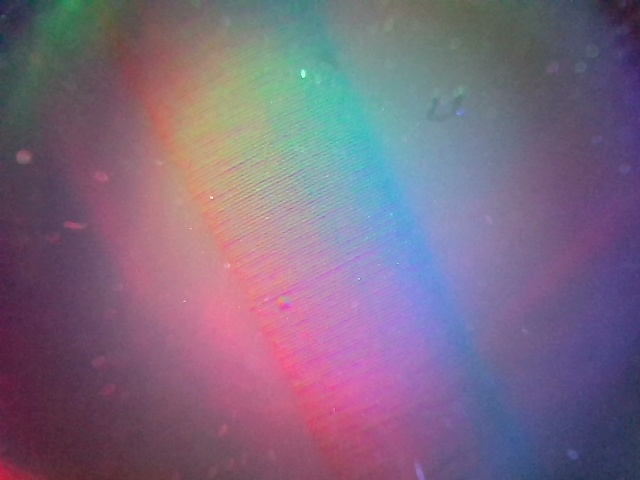contact: (99, 1, 518, 477)
